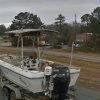Boat: (2, 41, 79, 99)
